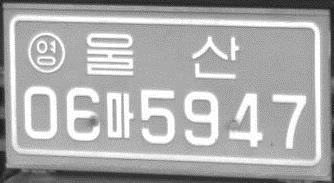0: (22, 84, 59, 141)
4: (227, 90, 265, 150)
5: (138, 87, 177, 145)
6: (64, 86, 102, 142)
7: (270, 92, 308, 151)
9: (182, 89, 220, 147)
마: (104, 89, 135, 140)
영: (27, 31, 66, 74)
울산_D: (83, 29, 241, 81)
